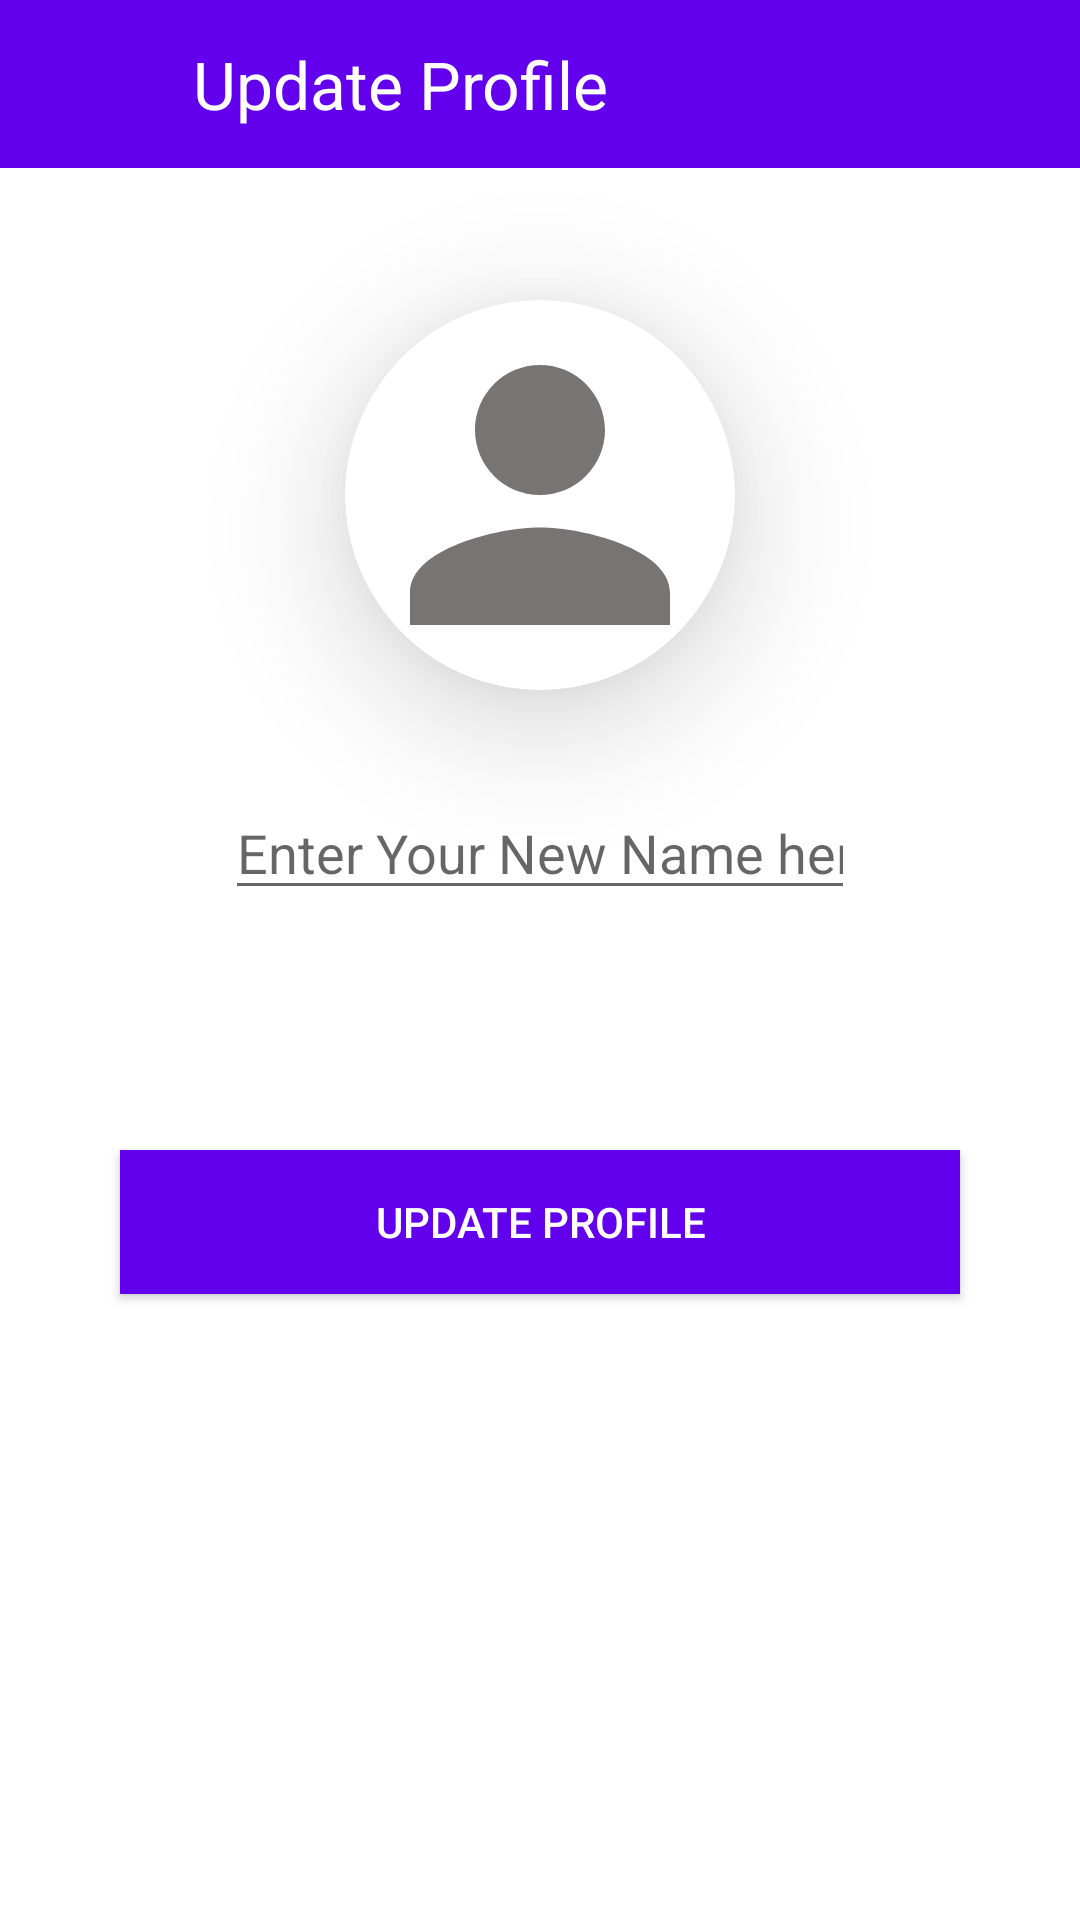

Screen size 1080px x 1920px. Icon name, then its box in pixels as (x1, y1, x2, y2):
person: (410, 365, 670, 625)
